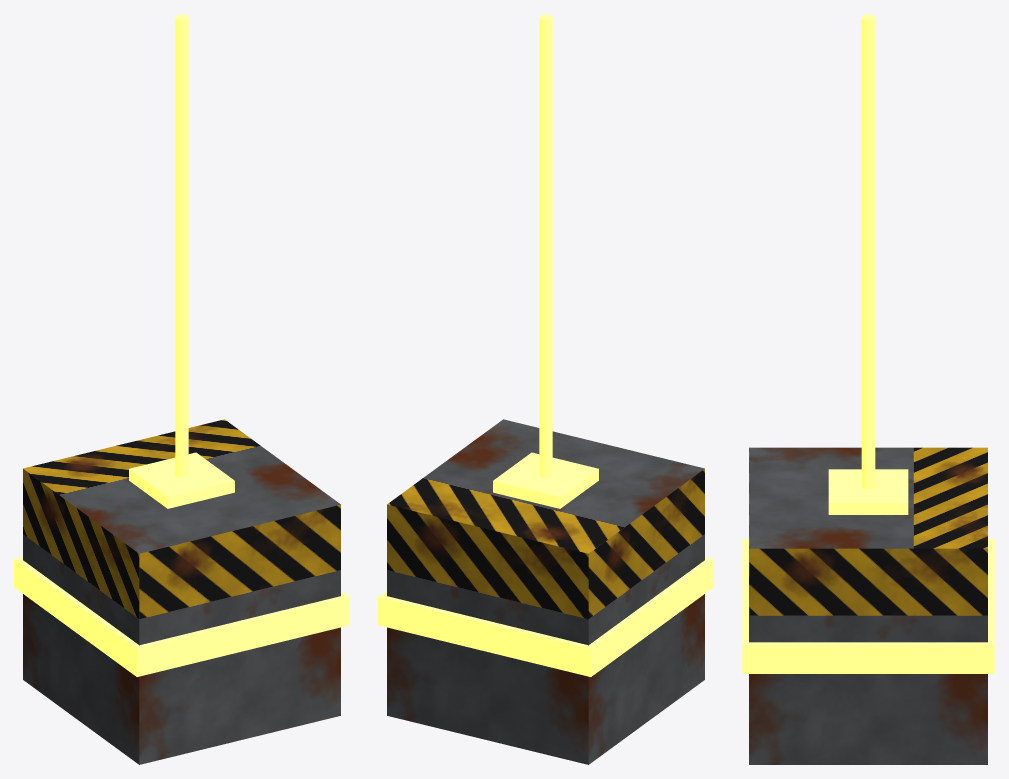
Rendered from loot_ammo.glb.
The picture shows the model from 3 angles, left to right: view 1: azimuth 30°, elevation 25°; view 2: azimuth 150°, elevation 25°; view 3: azimuth 270°, elevation 25°; orthographic projection. The views are drawn at different scales.
Visible parts, largest first — view 1: Loot; view 2: Loot; view 3: Loot.
Part boxes in pixels (box(x1,y1,x2,y2)): Loot: box(14, 14, 349, 764); Loot: box(378, 14, 713, 764); Loot: box(742, 14, 994, 764).
Bounding box in the file's own units: 0.95 × 2.9 × 0.95.
2 materials, 1 textured.
